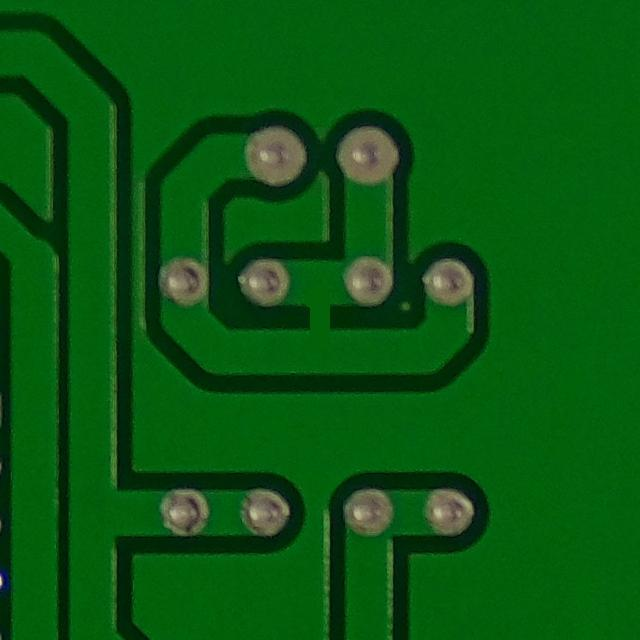short: (283, 287, 358, 354)
